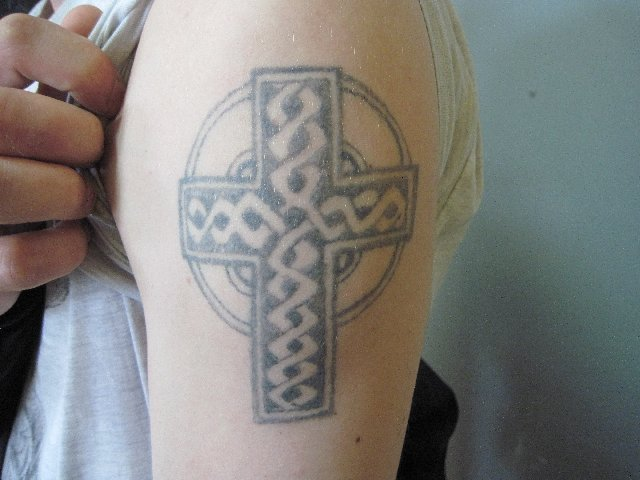tatu9_krest: (170, 61, 422, 427)
